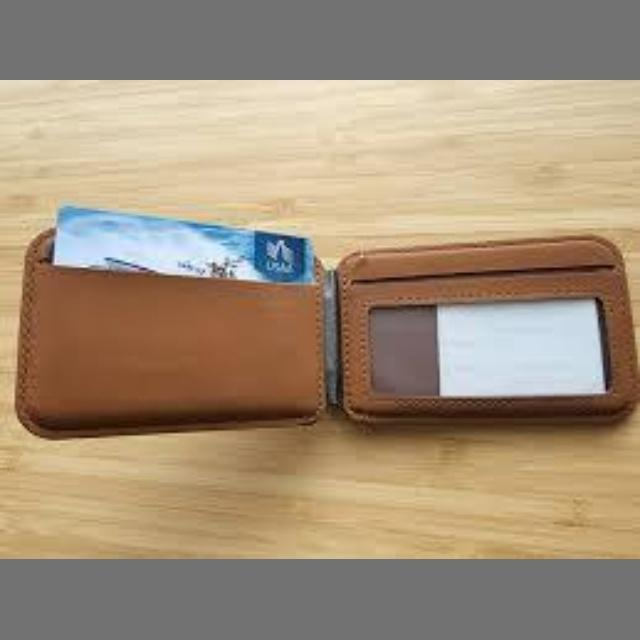Wallet: (5, 180, 640, 500)
